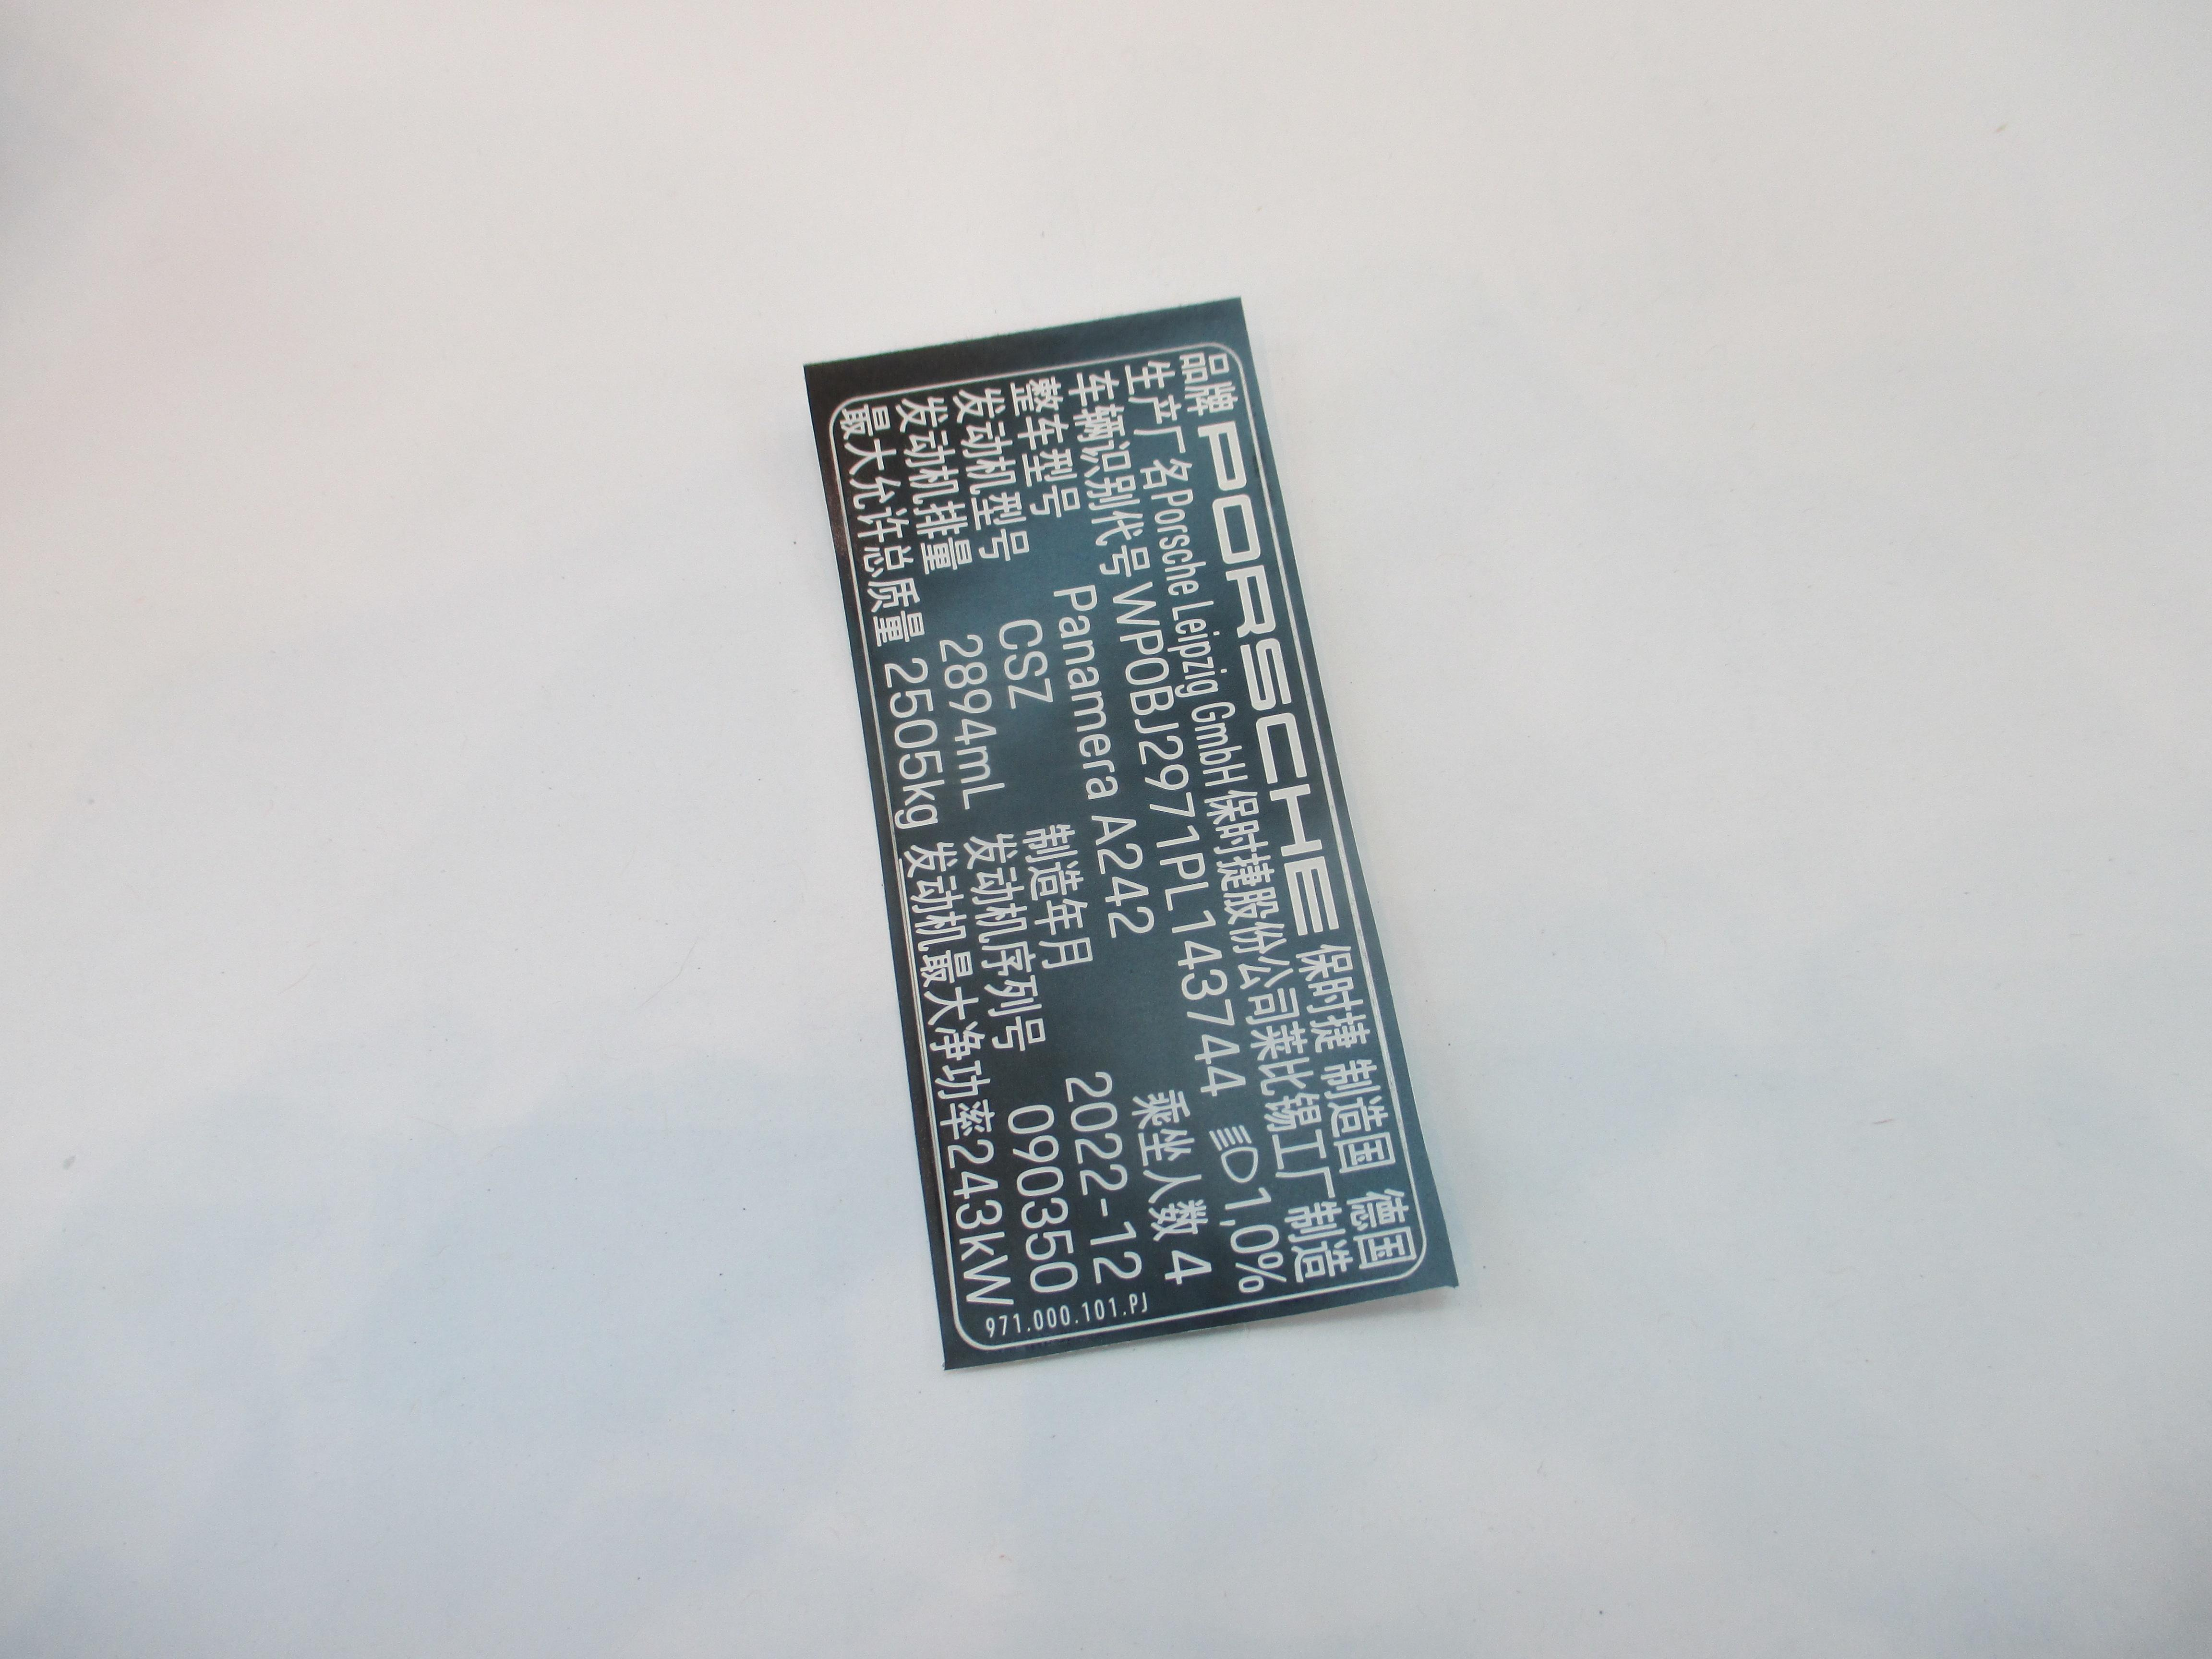Sign: (831, 345, 1428, 1347)
